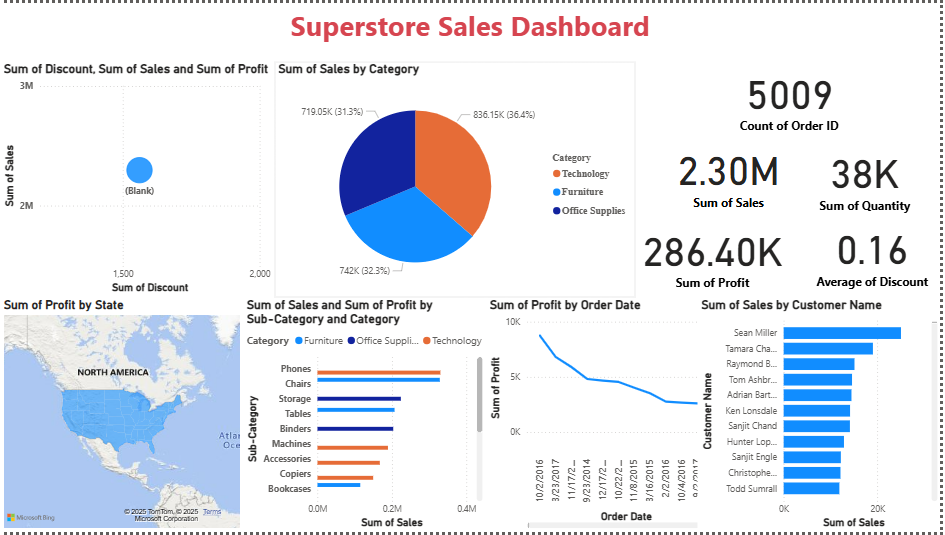

Layout of this report page (visuals, bound fields, positions):
{"tool":"powerbi","page":{"name":"Page 1","canvas":[1280,720],"ordinal":0},"visuals":[{"type":"filledMap","fields":{"Category":["Sample - Superstore.State"]},"box":[0,400.6,330.7,319.4],"z":0},{"type":"clusteredBarChart","fields":{"Y":["Sample - Superstore.Sales"],"Category":["Sample - Superstore.Sub-Category"],"Series":["Sample - Superstore.Category"]},"box":[330.7,400.6,330.7,319.4],"z":1000},{"type":"lineChart","fields":{"Category":["Sample - Superstore.Order Date"],"Y":["Sample - Superstore.Profit"]},"box":[661.4,400.6,330.7,319.4],"z":2000},{"type":"barChart","fields":{"Category":["Sample - Superstore.Customer Name"],"Y":["Sample - Superstore.Sales"]},"box":[949,400,331.4,319.6],"z":3000},{"type":"scatterChart","fields":{"X":["Sample - Superstore.Discount"],"Y":["Sample - Superstore.Sales"],"Size":["Sample - Superstore.Profit"]},"box":[0,79.6,373.5,320.4],"z":4000},{"type":"pieChart","fields":{"Category":["Sample - Superstore.Category"],"Y":["Sample - Superstore.Sales"]},"box":[373.5,79.6,491.8,320.4],"z":5000},{"type":"card","fields":{"Values":["Sample - Superstore.Sales"]},"box":[887.8,169.4,206.1,126.5],"z":6000},{"type":"card","fields":{"Values":["Sample - Superstore.Profit"]},"box":[865.3,281.6,208.2,120.4],"z":7000},{"type":"card","fields":{"Values":["Sample - Superstore.Discount"]},"box":[1093.9,279.6,185.7,120.4],"z":8000},{"type":"card","fields":{"Values":["Sample - Superstore.Quantity"]},"box":[1073.5,177.6,206.1,118.4],"z":9000},{"type":"card","fields":{"Values":["Sample - Superstore.Order ID"]},"box":[887.8,69.4,371.4,118.4],"z":10000},{"type":"textbox","box":[0,0,1279.6,79.6],"z":11000}]}

Visuals, with their boxes in screenshot pixels (x1, y1, x2, y2), scaled from the page's 1280x720 canvas onto the 945x535 screenshot:
filledMap - Sample - Superstore.State: (x1=0, y1=298, x2=244, y2=534)
clusteredBarChart - Sample - Superstore.Sales x Sample - Superstore.Sub-Category: (x1=244, y1=298, x2=488, y2=534)
lineChart - Sample - Superstore.Order Date x Sample - Superstore.Profit: (x1=488, y1=298, x2=732, y2=534)
barChart - Sample - Superstore.Customer Name x Sample - Superstore.Sales: (x1=701, y1=297, x2=944, y2=534)
scatterChart - Sample - Superstore.Discount x Sample - Superstore.Sales: (x1=0, y1=59, x2=276, y2=297)
pieChart - Sample - Superstore.Category x Sample - Superstore.Sales: (x1=276, y1=59, x2=639, y2=297)
card - Sample - Superstore.Sales: (x1=655, y1=126, x2=808, y2=220)
card - Sample - Superstore.Profit: (x1=639, y1=209, x2=793, y2=299)
card - Sample - Superstore.Discount: (x1=808, y1=208, x2=944, y2=297)
card - Sample - Superstore.Quantity: (x1=793, y1=132, x2=944, y2=220)
card - Sample - Superstore.Order ID: (x1=655, y1=52, x2=930, y2=140)
textbox: (x1=0, y1=0, x2=944, y2=59)
